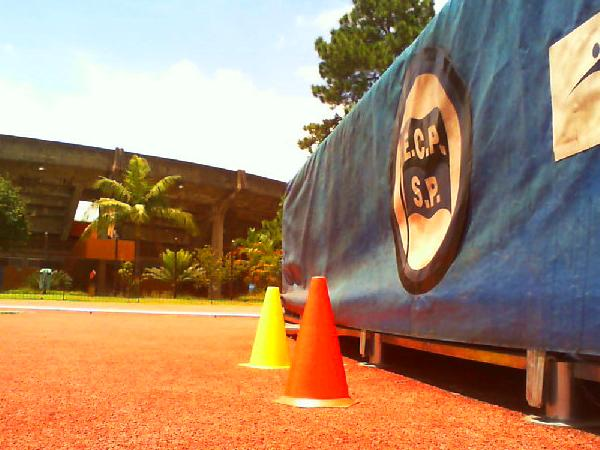0 cone: (269, 277, 366, 407), (238, 282, 294, 369)
